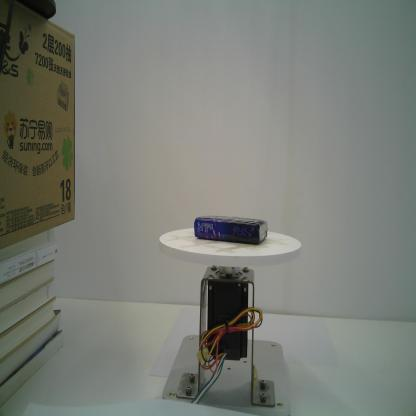Gum: (194, 214, 268, 246)
